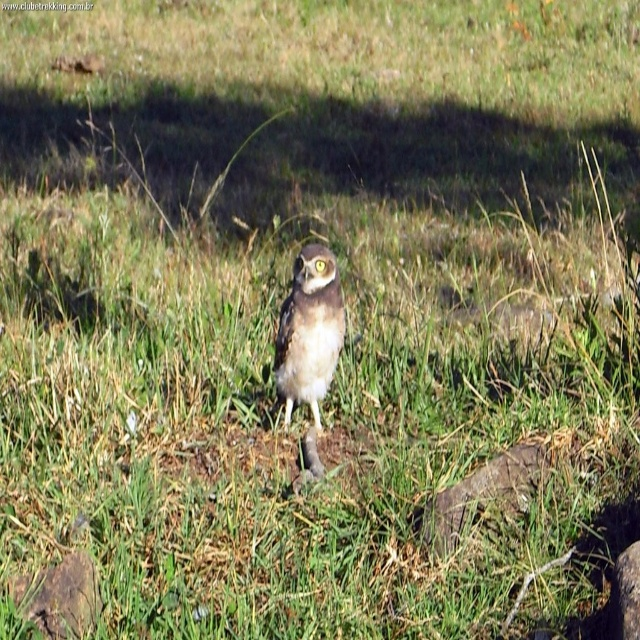Owl: (275, 241, 356, 440)
